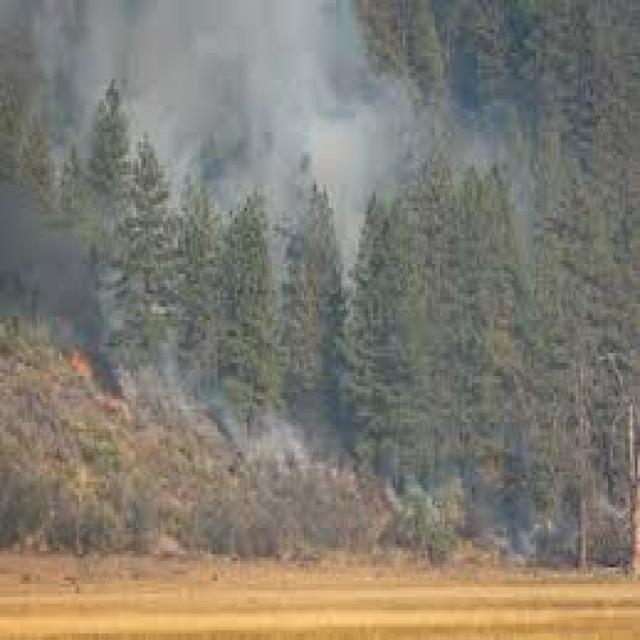Fire: (58, 338, 98, 392)
Smoke: (181, 0, 412, 194)
